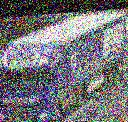truck: (0, 12, 128, 122)
